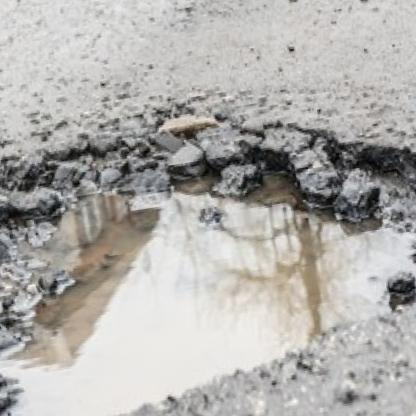pothole: (0, 73, 416, 416)
